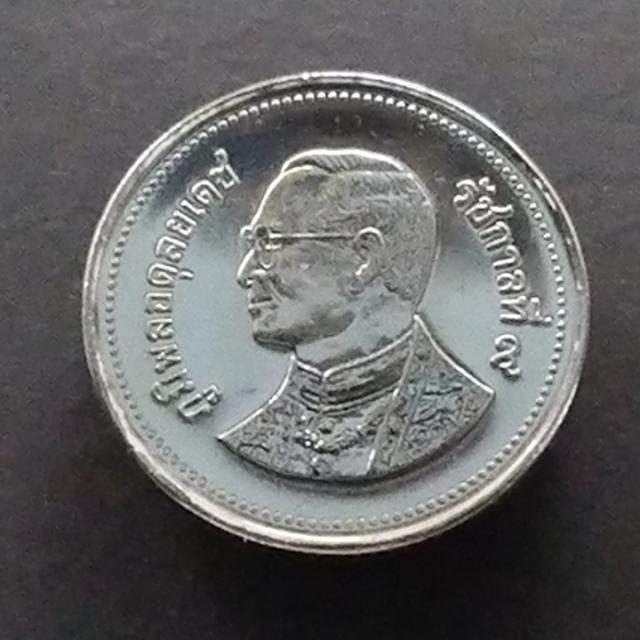2 Bath: (80, 68, 598, 566)
